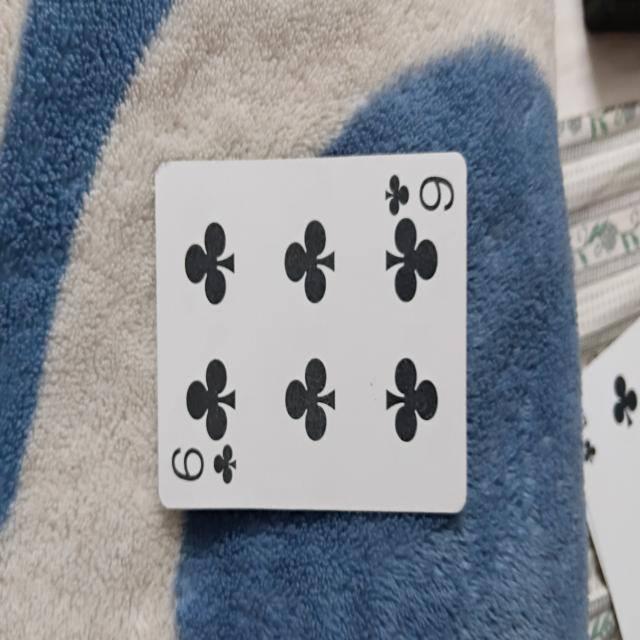6C: (156, 150, 468, 516)
